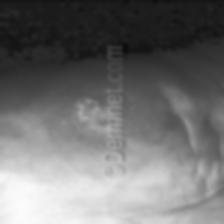Toxin: (78, 98, 110, 132)
